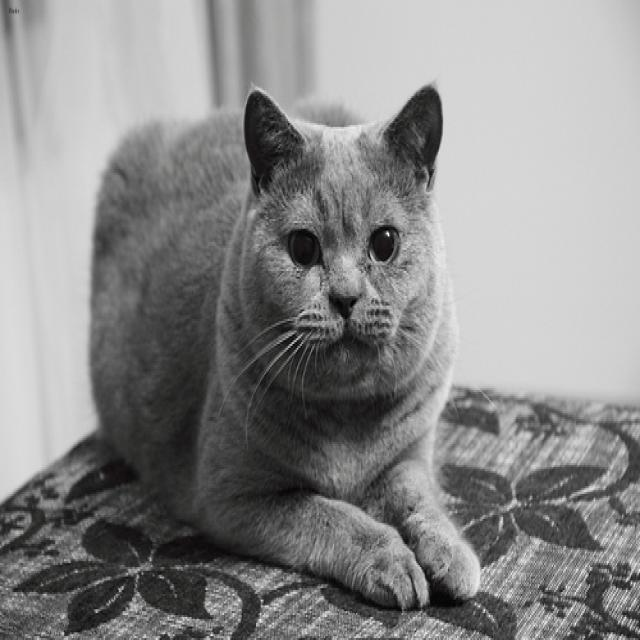British_Shorthair: (242, 83, 440, 375)
